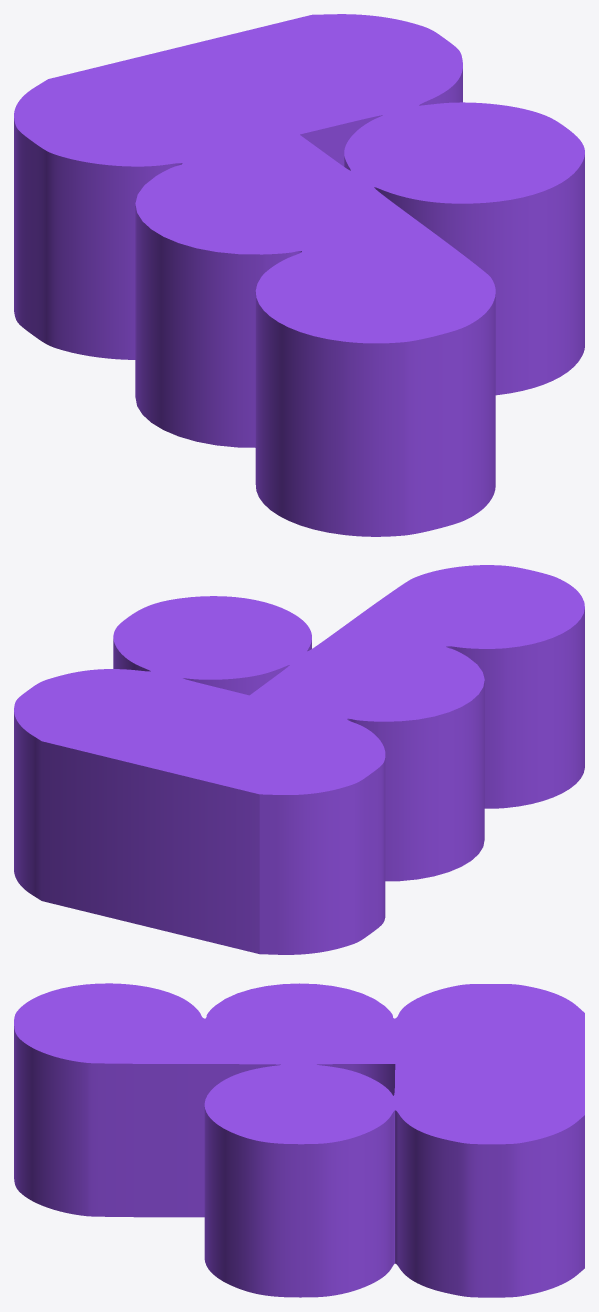
Rendered from figma.fbx.
3 renders of one model, top to bottom at view 1: azimuth 30°, elevation 25°; view 2: azimuth 150°, elevation 25°; view 3: azimuth 270°, elevation 25°, orthographic. The views are drawn at different scales.
Visible parts, largest first — view 1: path48.002; view 2: path48.002; view 3: path48.002.
Boxes of the visible parts, <box> form: path48.002: <box>14,14,584,536</box>; path48.002: <box>14,565,584,954</box>; path48.002: <box>14,983,584,1297</box>.
Size of the model in its own units: 128 by 57.11 by 193.
